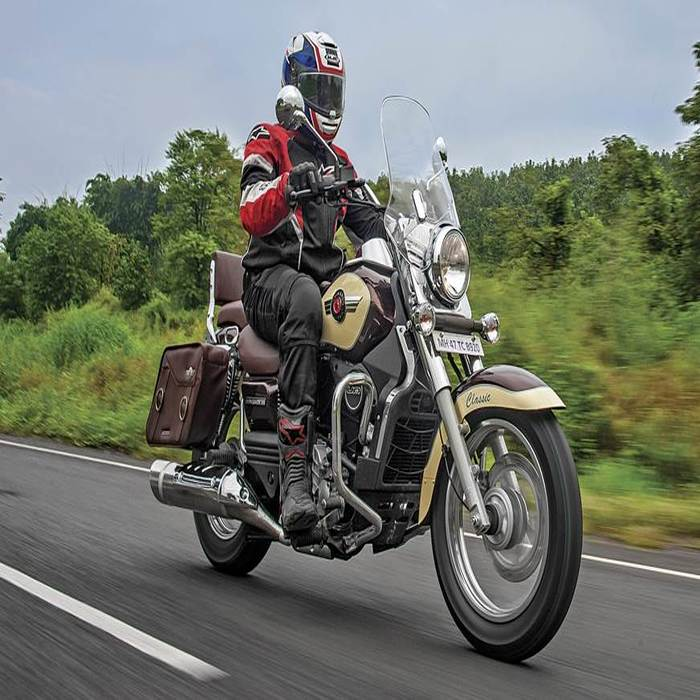h: (279, 28, 349, 144)
n: (430, 326, 487, 359)
